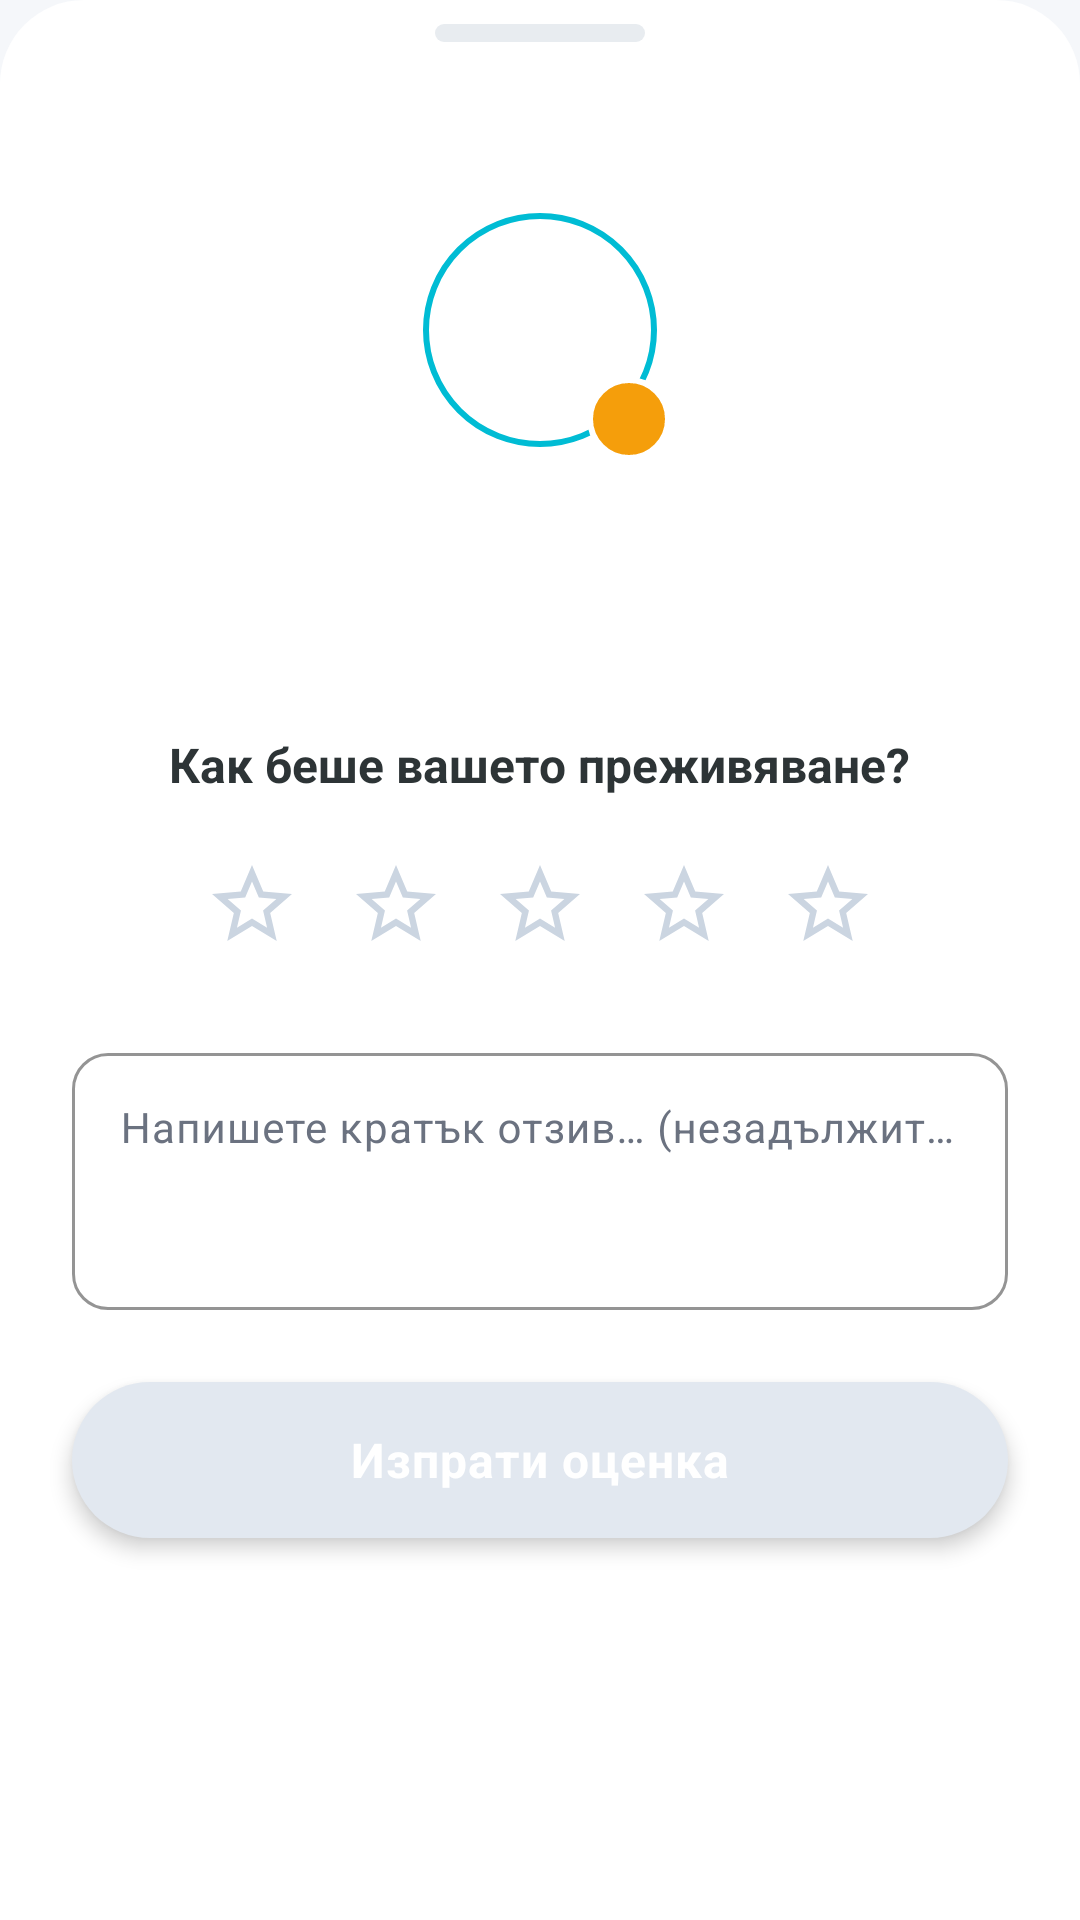

Screen size 1080px x 1920px. Icon name, then its box in pixels as [left=x1, top=y1, right=x2, bottom=y2]:
Звезда 1: [left=213, top=866, right=291, bottom=940]
Звезда 2: [left=357, top=866, right=435, bottom=940]
Звезда 3: [left=501, top=866, right=579, bottom=940]
Звезда 4: [left=645, top=866, right=723, bottom=940]
Звезда 5: [left=789, top=866, right=867, bottom=940]
